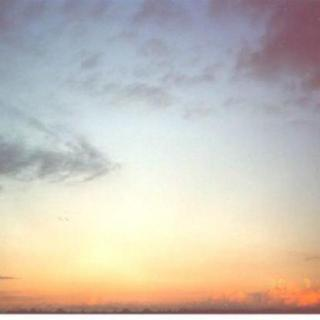Stratocumulus: (0, 0, 320, 306)
